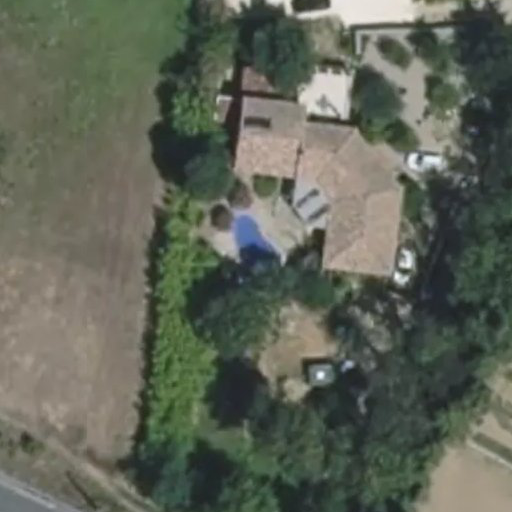pool: (215, 229, 287, 258)
